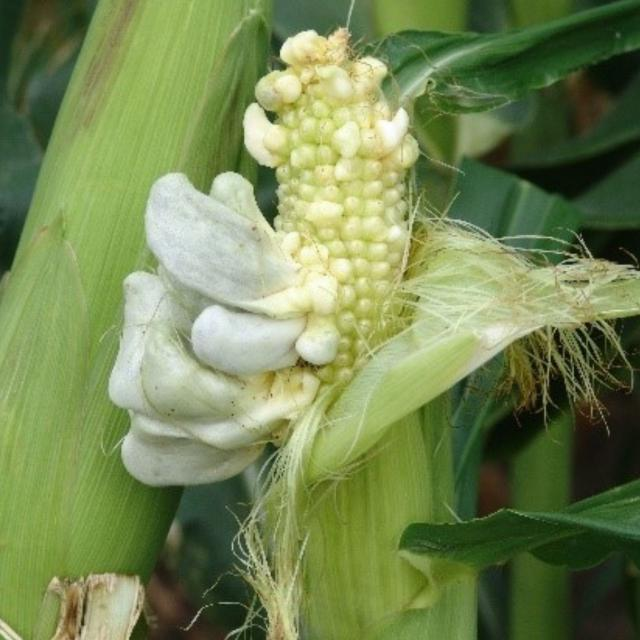Leaf_Scald: (96, 20, 544, 553)
